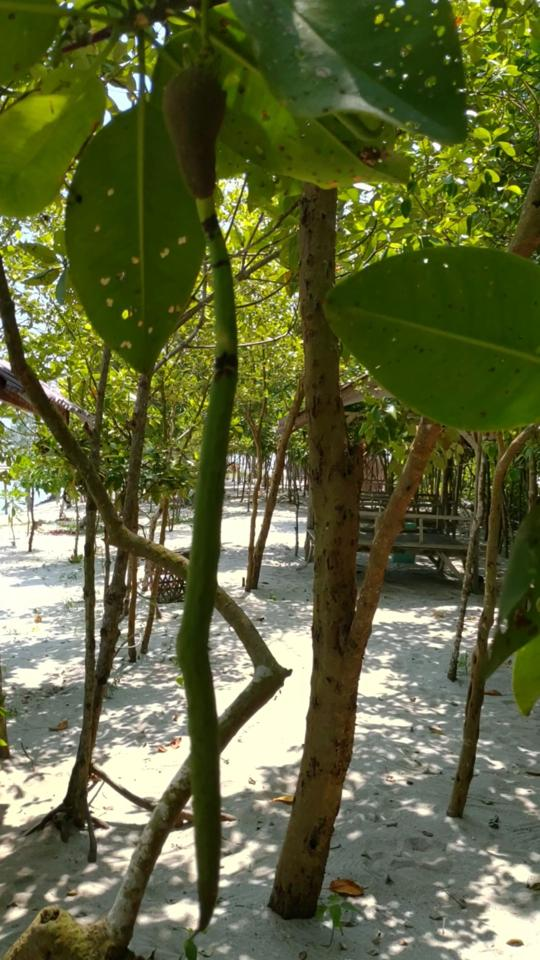mentah: (150, 18, 254, 943)
